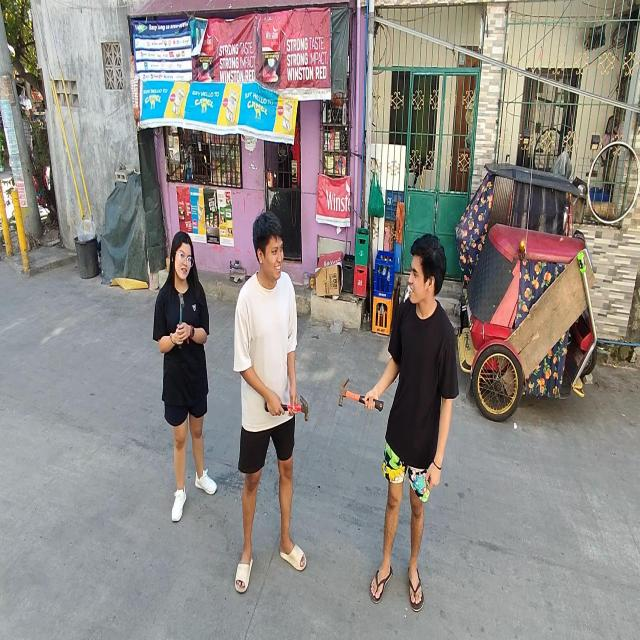hammer: (338, 378, 384, 412), (264, 394, 308, 422), (178, 293, 185, 349)
